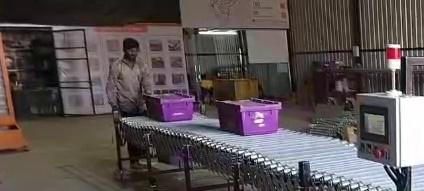box: (217, 99, 280, 135), (145, 94, 194, 121)
